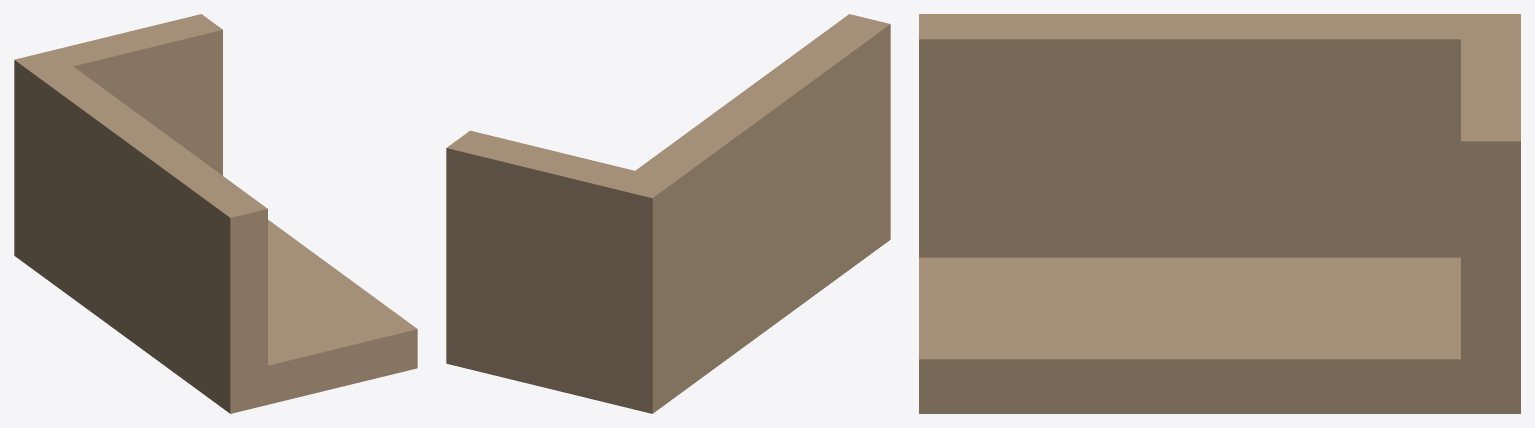
File: Galerie.glb
The picture shows the model from 3 angles, left to right: view 1: azimuth 30°, elevation 25°; view 2: azimuth 150°, elevation 25°; view 3: azimuth 270°, elevation 25°; orthographic projection. The views are drawn at different scales.
Visible parts, largest first — view 1: Mesh_Mesh_head_geo.001_lambert2SG.001; view 2: Mesh_Mesh_head_geo.001_lambert2SG.001; view 3: Mesh_Mesh_head_geo.001_lambert2SG.001.
Boxes of the visible parts, x1=… form: Mesh_Mesh_head_geo.001_lambert2SG.001: x1=14, y1=14, x2=417, y2=413; Mesh_Mesh_head_geo.001_lambert2SG.001: x1=446, y1=14, x2=890, y2=413; Mesh_Mesh_head_geo.001_lambert2SG.001: x1=919, y1=14, x2=1520, y2=413.
Size of the model in its own units: 10 by 10 by 20.
